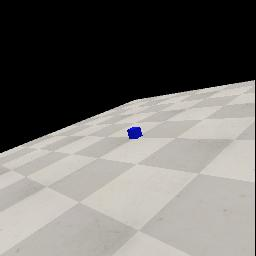box: (127, 127, 143, 139)
